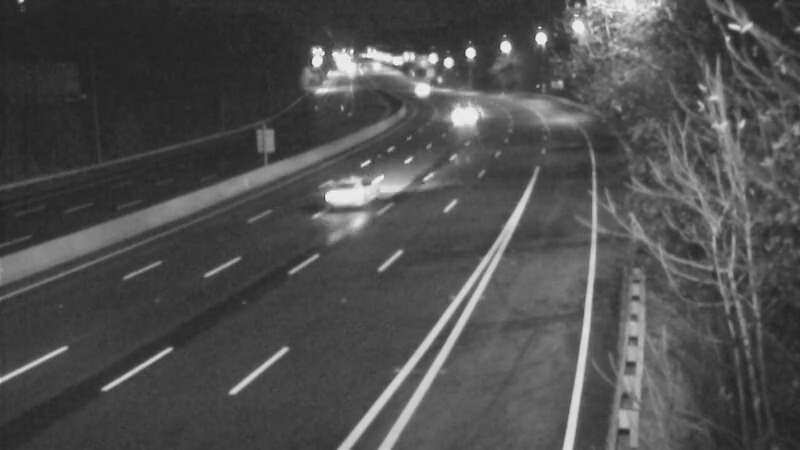vehicle: (315, 146, 395, 226), (392, 65, 442, 115), (441, 90, 491, 140)
